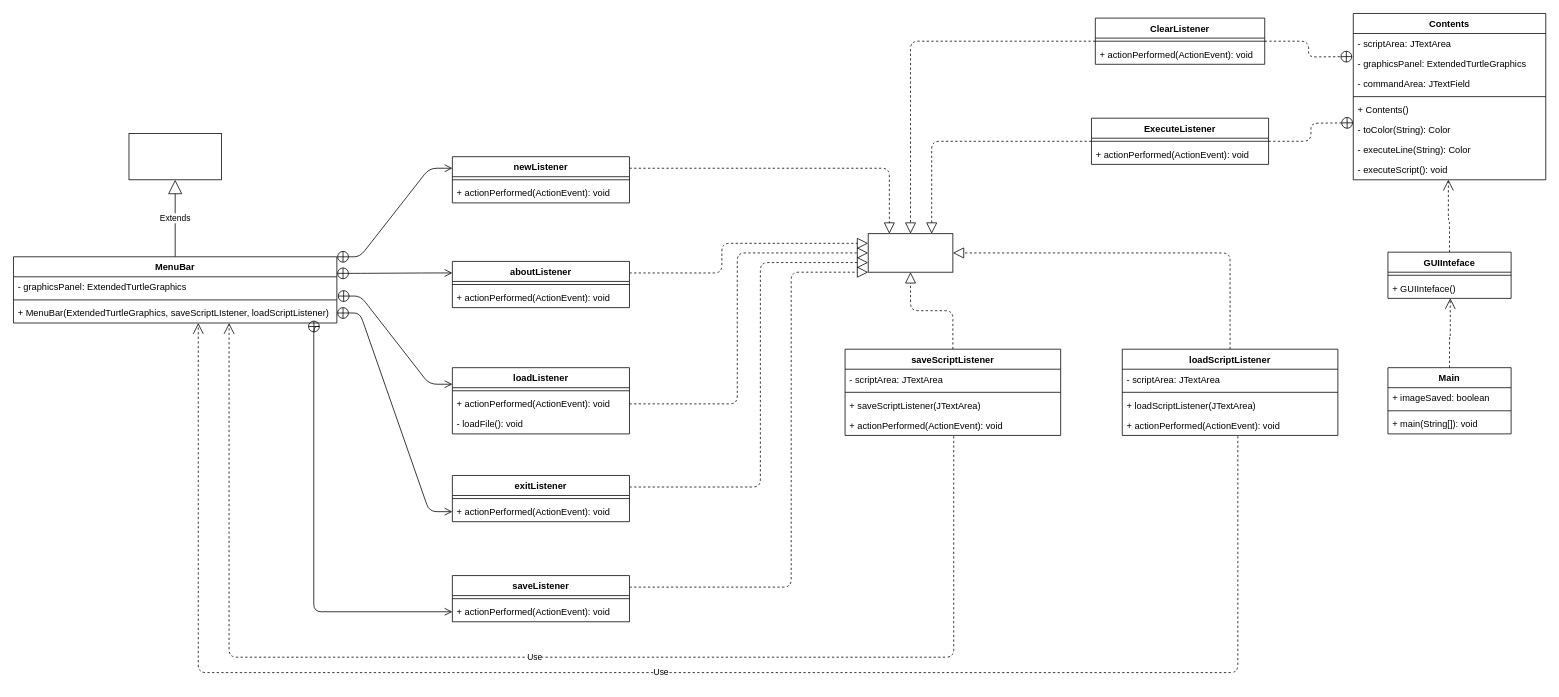
The diagram is 1559 pixels wide and 697 high, and some of its shapes have lost their labels. Each missing label, with the centre of its shape:
ActionListener: the point at 910,252
JMenuBar: the point at 174,156
